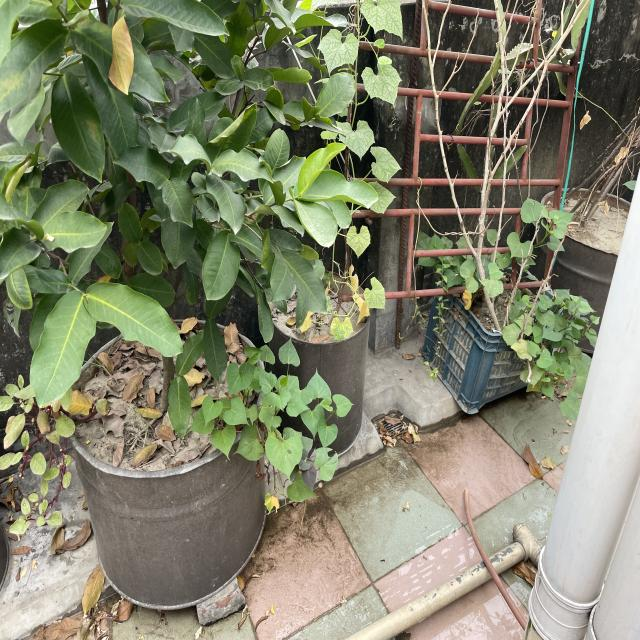Breeding Place: (70, 320, 268, 610), (421, 266, 561, 410), (271, 276, 378, 453), (540, 190, 640, 314)
